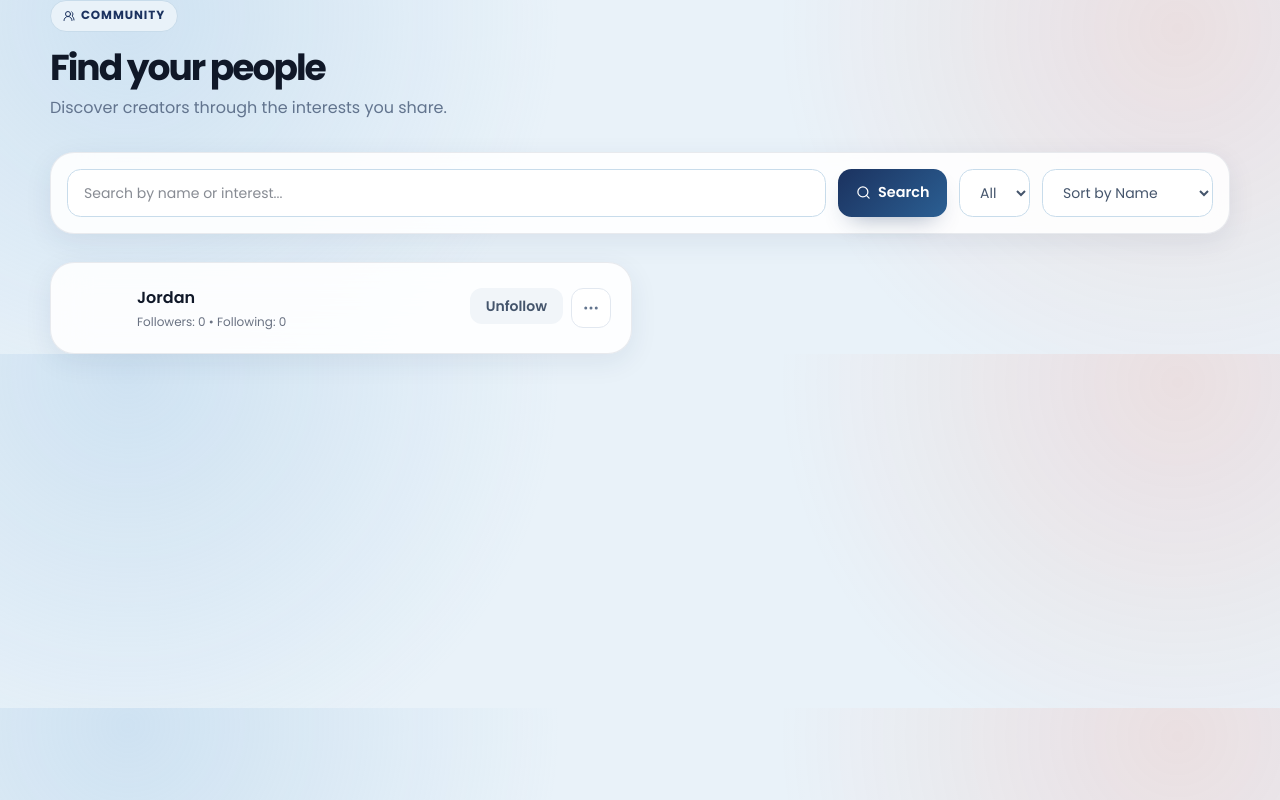
it: People personal blocking controls › closes its actions menu when clicking away
Expected: the link "Jordan" is shown, x1=137 y1=286 x2=195 y2=309
Click the button named "More actions for Jordan": point(591, 308) x1=571 y1=288 x2=611 y2=328
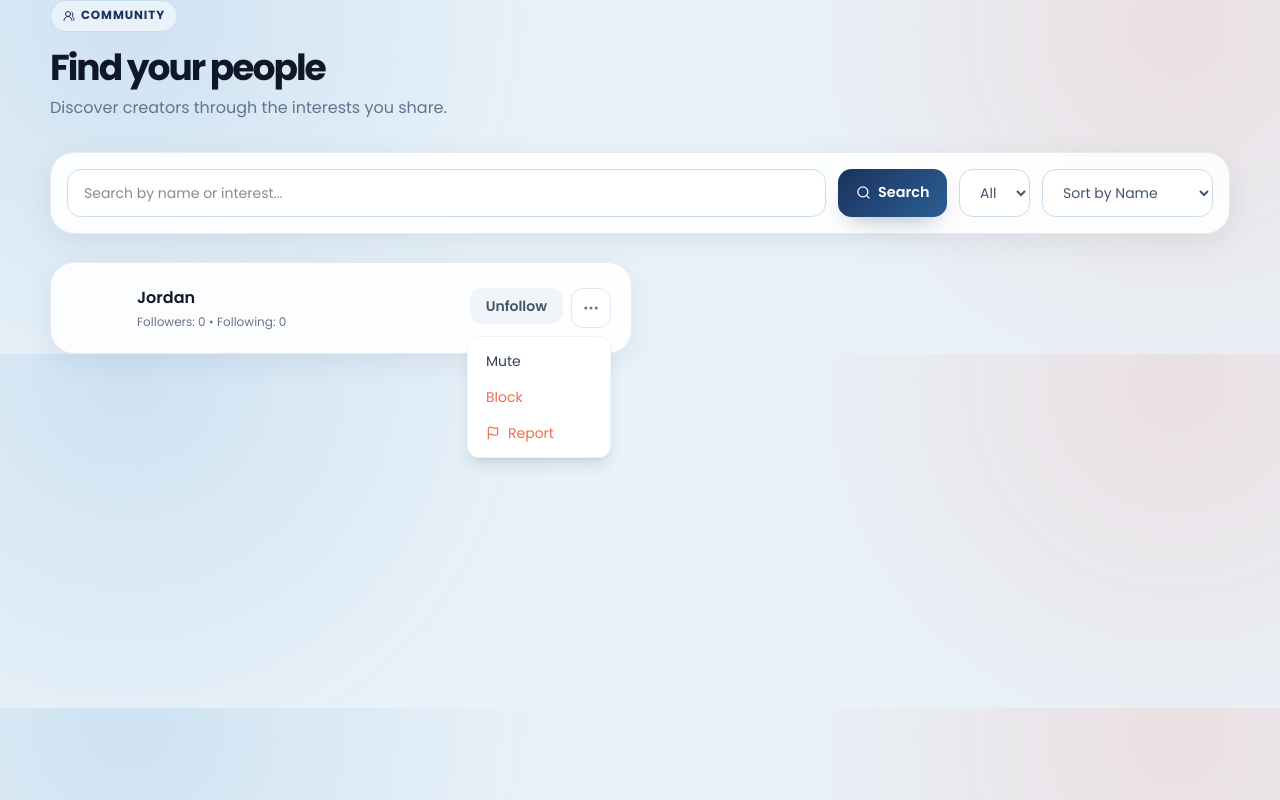
Result: the button "Block" is shown at x1=474 y1=379 x2=604 y2=415
Press the mouse on the element that starts with "Community": point(640, 177) x1=0 y1=0 x2=1279 y2=354
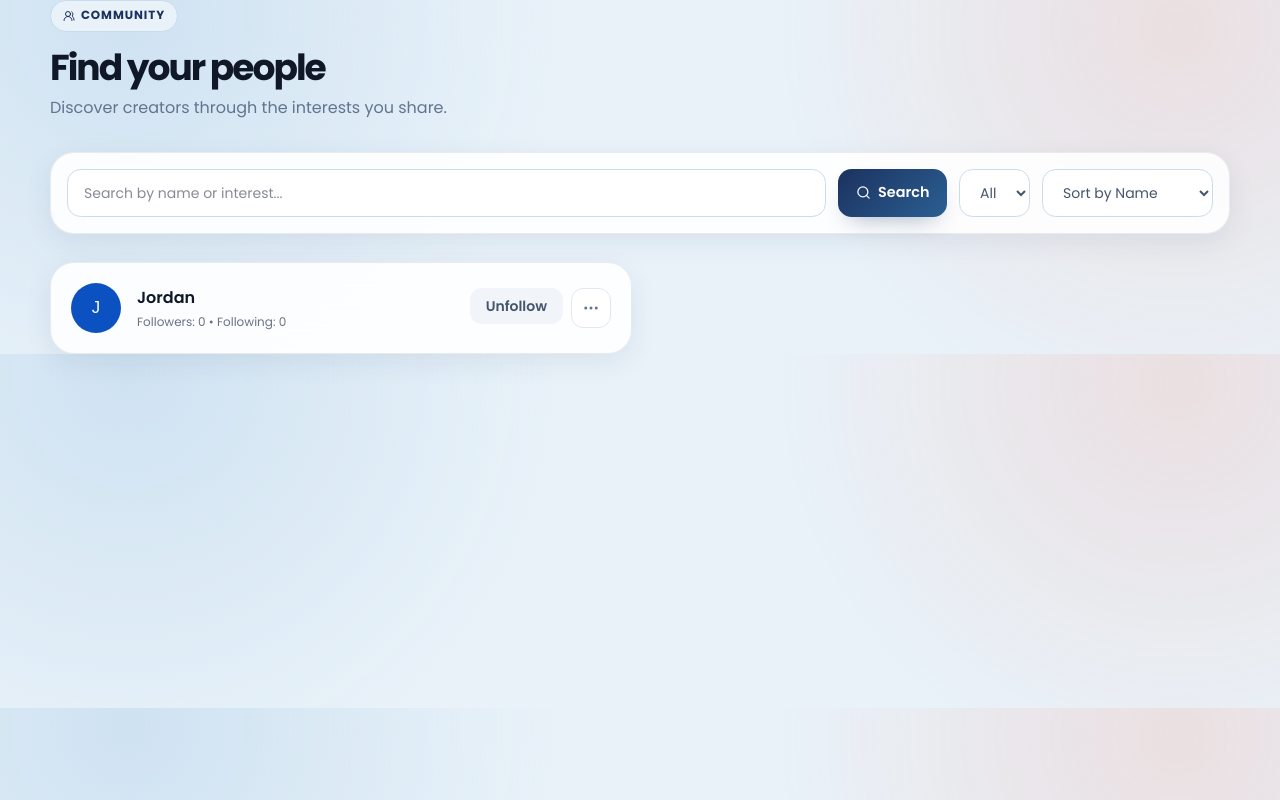
Result: the button "Block" is gone
